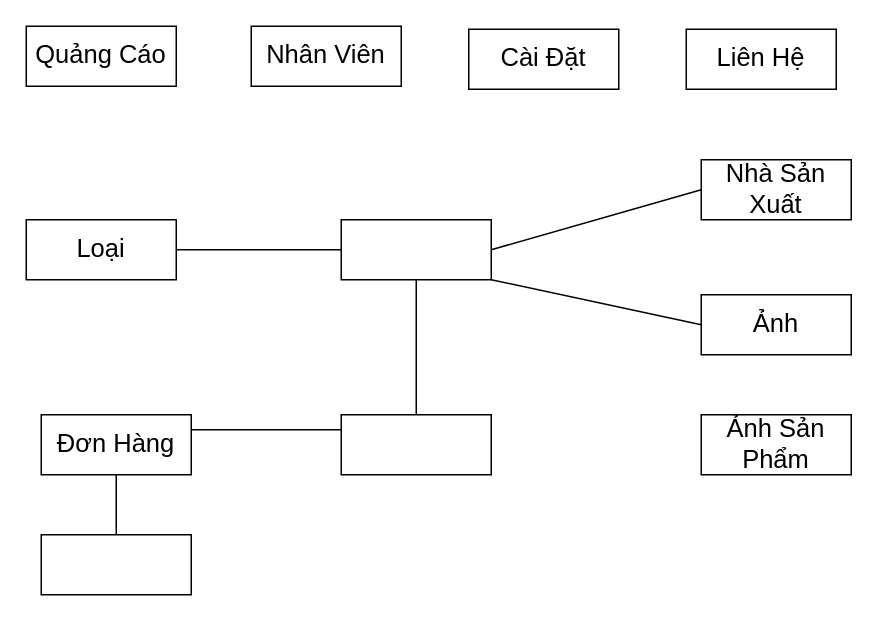
Image size: 878x621. Some labels were removed from this diagram. The centre of each missing label's shape, as x and y in pixels:
Chi Tiết Đơn Hàng: (x=415, y=444)
Khách Hàng: (x=115, y=564)
Sản Phẩm: (x=415, y=249)
